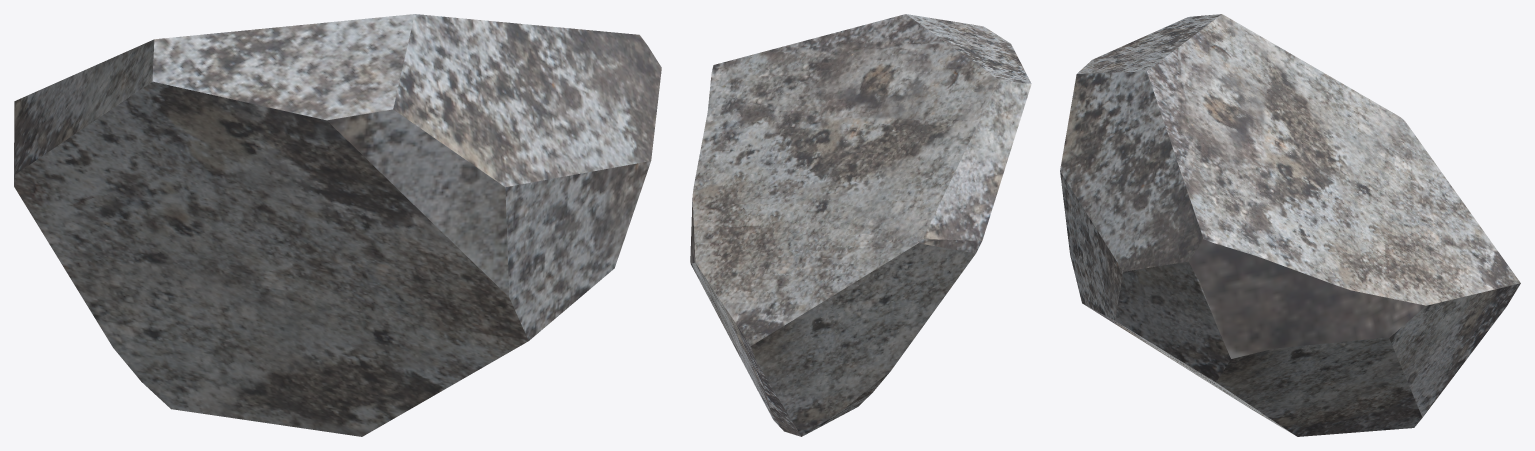
File: Asteroid_Large_001_02_008_03_006.fbx
The picture shows the model from 3 angles, left to right: view 1: azimuth 30°, elevation 25°; view 2: azimuth 150°, elevation 25°; view 3: azimuth 270°, elevation 25°; orthographic projection. The views are drawn at different scales.
Visible parts, largest first — view 1: Asteroid_Large_001_02_008_03_006; view 2: Asteroid_Large_001_02_008_03_006; view 3: Asteroid_Large_001_02_008_03_006.
Part boxes in pixels (x1=…): Asteroid_Large_001_02_008_03_006: x1=14, y1=14, x2=661, y2=436; Asteroid_Large_001_02_008_03_006: x1=690, y1=14, x2=1031, y2=436; Asteroid_Large_001_02_008_03_006: x1=1060, y1=14, x2=1520, y2=436.
Size of the model in its own units: 12.75 by 11.87 by 13.88.
